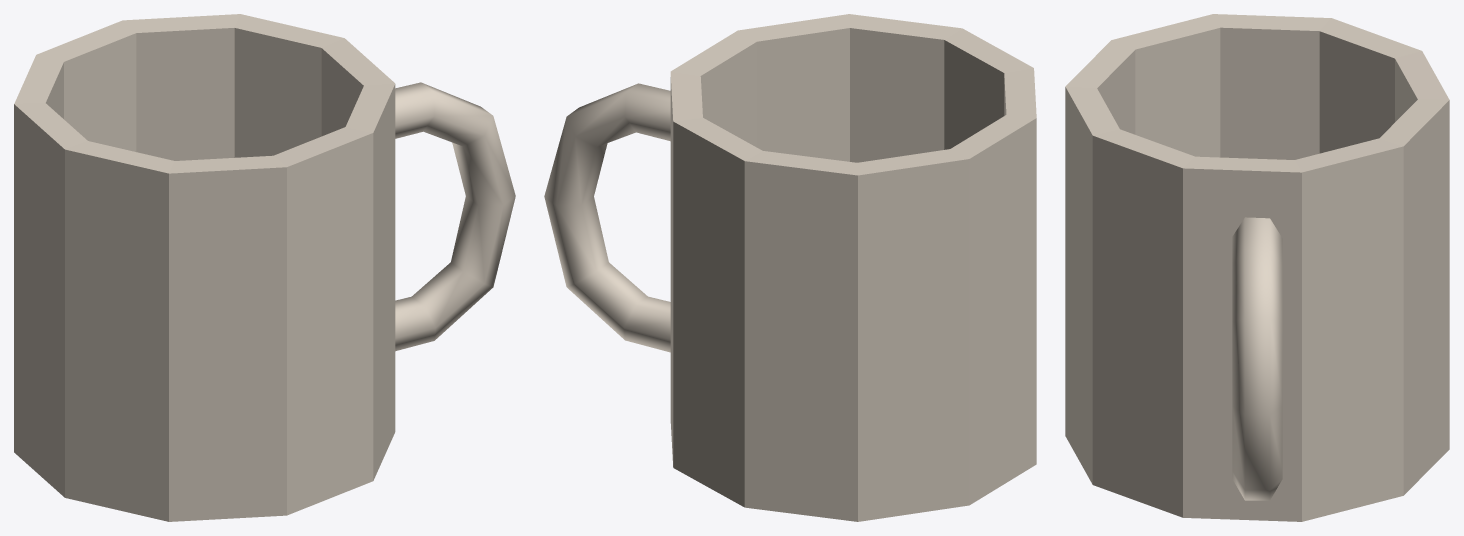
Rendered from tea_cup.fbx.
3 views of the same model, side by side, from view 1: azimuth 30°, elevation 25°; view 2: azimuth 150°, elevation 25°; view 3: azimuth 270°, elevation 25° (orthographic).
Parts seen in each view (by area): view 1: cup; view 2: cup; view 3: cup.
Boxes of the visible parts, bbox=[...] form: cup: bbox=[14, 14, 515, 521]; cup: bbox=[544, 14, 1036, 521]; cup: bbox=[1065, 14, 1449, 521].
Size of the model in its own units: 0.2645 by 0.1886 by 0.188.
